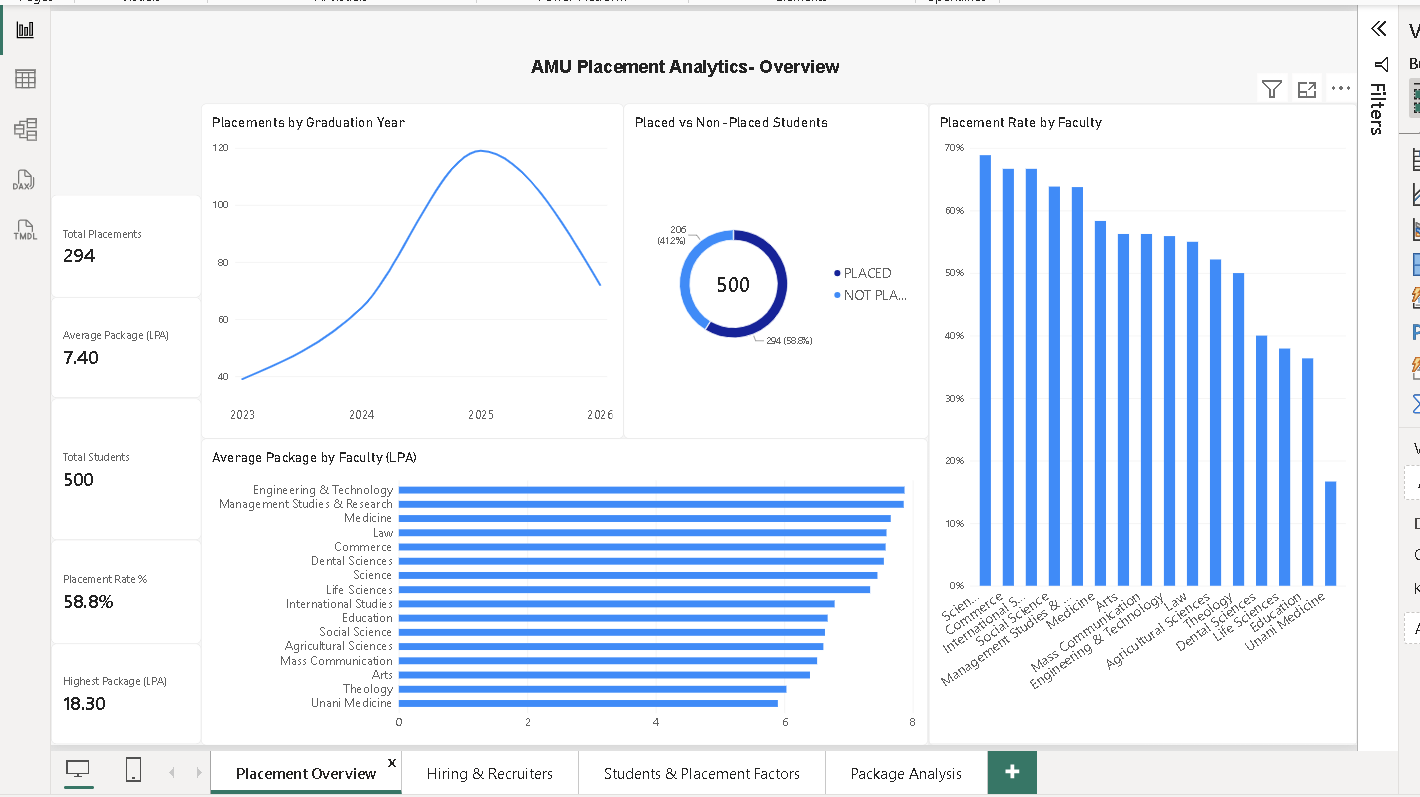

The dashboard page shown, as its layout file describes it:
{"tool":"powerbi","page":{"name":"Placement Overview","canvas":[1920,1080],"ordinal":0},"visuals":[{"type":"cardVisual","fields":{"Data":["CountNonNull(students.Enrollment_Number)"]},"box":[0,569.3,221.2,208],"z":0},{"type":"textbox","box":[706,65.9,529,61.7],"z":1000},{"type":"cardVisual","fields":{"Data":["CountNonNull(placements.Placement_ID)"]},"box":[0,269.3,221.2,151.1],"z":2000},{"type":"cardVisual","fields":{"Data":["Avg(placements.Package_LPA)"]},"box":[0,420.4,221.2,148.9],"z":3000},{"type":"cardVisual","fields":{"Data":["company.Placement Rate %"]},"box":[0,777.4,221.2,153.3],"z":4000},{"type":"lineChart","title":"Placements by Graduation Year","fields":{"Category":["students.Graduation_Year"],"Y":["CountNonNull(students.Enrollment_Number)"]},"box":[221.2,135.8,621.9,492.7],"z":5000},{"type":"clusteredColumnChart","title":"Placement Rate by Faculty","fields":{"Category":["faculty.Faculty_Name"],"Y":["faculty.Faculty Placement Rate %"]},"box":[1289.8,135.8,630.7,943.8],"z":6000},{"type":"clusteredBarChart","title":"Average Package by Faculty (LPA)","fields":{"Category":["faculty.Faculty_Name"],"Y":["Avg(placements.Package_LPA)"]},"box":[221.2,628.5,1068.6,451.1],"z":7000},{"type":"cardVisual","fields":{"Data":["Max(placements.Package_LPA)"]},"box":[0,930.7,221.2,148.9],"z":8000},{"type":"donutChart","title":"Placed vs Non-Placed Students","fields":{"Category":["students.Placement_Status"],"Y":["CountNonNull(students.Enrollment_Number)"]},"box":[840.9,135.8,448.9,492.7],"z":9000}]}

Visuals, with their boxes on the page's 1920x1080 design canvas (x1, y1, x2, y2). These are canvas units, not pixel positions in the 1420x797 screenshot, which may show the page scaled, cropped or inside an application window:
cardVisual - CountNonNull(students.Enrollment_Number): bbox=[0, 569, 221, 777]
textbox: bbox=[706, 66, 1235, 128]
cardVisual - CountNonNull(placements.Placement_ID): bbox=[0, 269, 221, 420]
cardVisual - Avg(placements.Package_LPA): bbox=[0, 420, 221, 569]
cardVisual - company.Placement Rate %: bbox=[0, 777, 221, 931]
"Placements by Graduation Year" lineChart: bbox=[221, 136, 843, 628]
"Placement Rate by Faculty" clusteredColumnChart: bbox=[1290, 136, 1920, 1080]
"Average Package by Faculty (LPA)" clusteredBarChart: bbox=[221, 628, 1290, 1080]
cardVisual - Max(placements.Package_LPA): bbox=[0, 931, 221, 1080]
"Placed vs Non-Placed Students" donutChart: bbox=[841, 136, 1290, 628]
